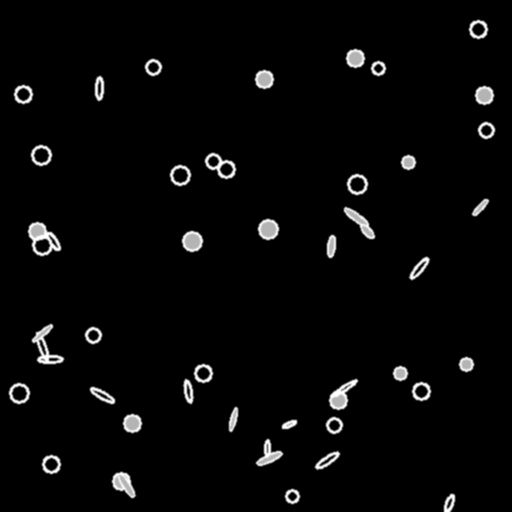pseudomonas: (342, 206, 370, 228), (330, 378, 358, 398), (408, 256, 430, 280), (314, 450, 340, 470), (116, 472, 136, 498), (256, 449, 282, 467), (89, 386, 115, 404), (34, 332, 50, 360), (31, 323, 53, 343), (471, 198, 489, 216), (45, 231, 61, 251), (359, 222, 375, 240), (442, 493, 456, 512), (228, 407, 238, 431), (183, 380, 193, 402), (326, 236, 336, 256), (281, 419, 297, 429), (37, 356, 63, 362), (96, 77, 102, 99), (264, 439, 270, 457)
synechocystis: (259, 220, 277, 238), (348, 175, 366, 193), (183, 232, 201, 250), (33, 236, 51, 254), (32, 146, 50, 164), (10, 384, 28, 402), (171, 166, 189, 184), (470, 21, 486, 37), (195, 365, 211, 381), (218, 161, 234, 177), (113, 473, 129, 489), (29, 223, 45, 239), (413, 383, 429, 399), (476, 87, 492, 103), (330, 392, 346, 408), (256, 71, 272, 87), (15, 86, 31, 102), (347, 50, 363, 66), (124, 415, 140, 431), (43, 456, 59, 472), (479, 123, 493, 137), (206, 154, 220, 168), (86, 328, 100, 342), (327, 418, 341, 432), (146, 60, 160, 74), (460, 358, 472, 370), (402, 156, 414, 168), (372, 62, 384, 74), (286, 490, 298, 502), (394, 367, 406, 379)
